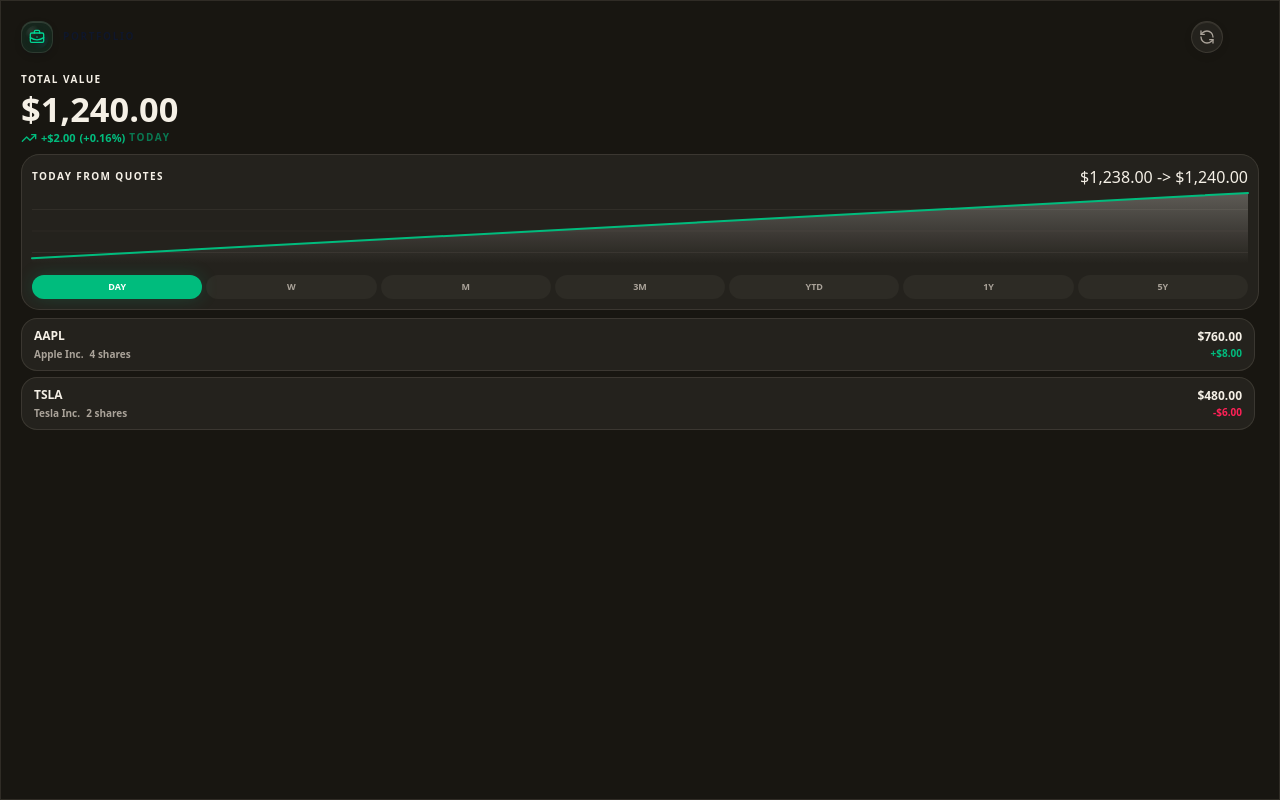
PortfolioWidget › shows a range-specific estimate when selected history is unavailable
Expected: the text "$1,240.00" is shown, [21,85,178,132]
Step 1. Click the button "1Y" → (989, 287), box [903,275,1074,299]
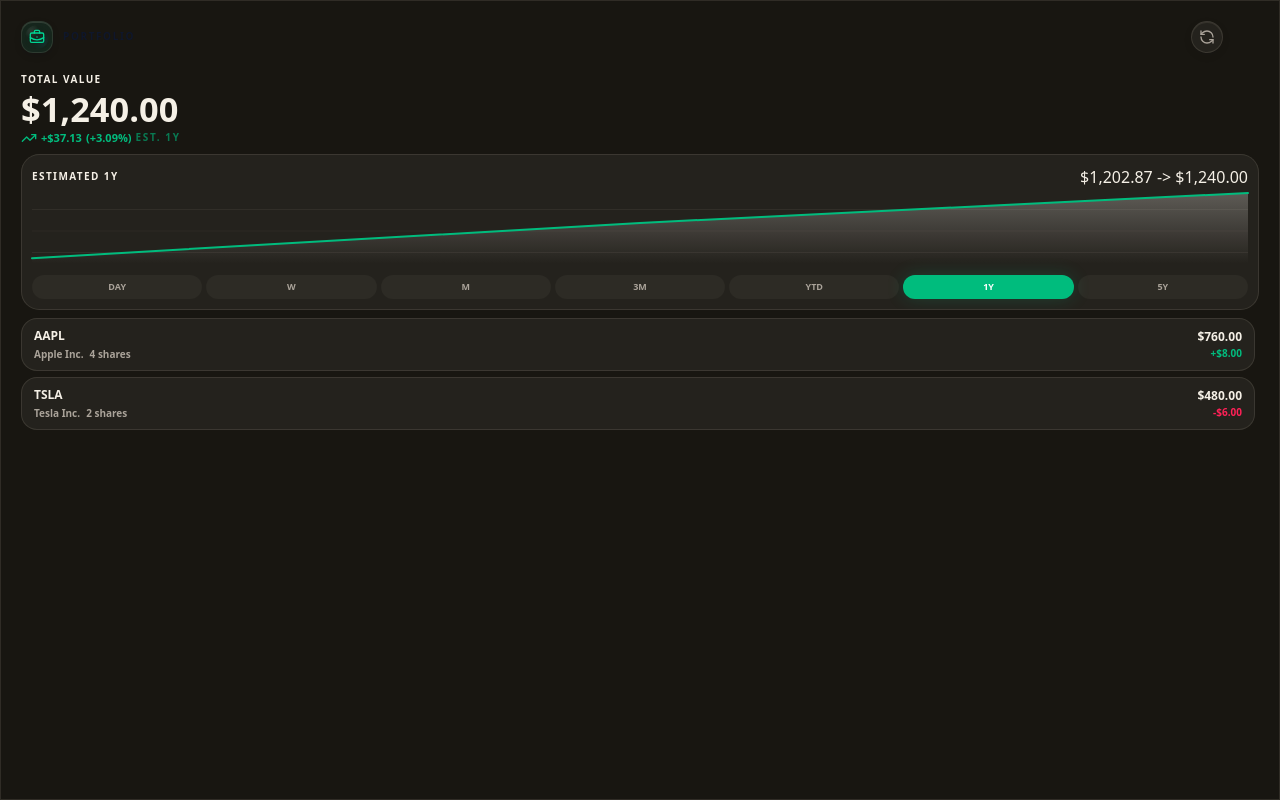
Now the text "Estimated 1Y" is shown, box [32,170,119,184]
Now the text "Today from quotes" is gone
Now the text "+$2.00" is gone
